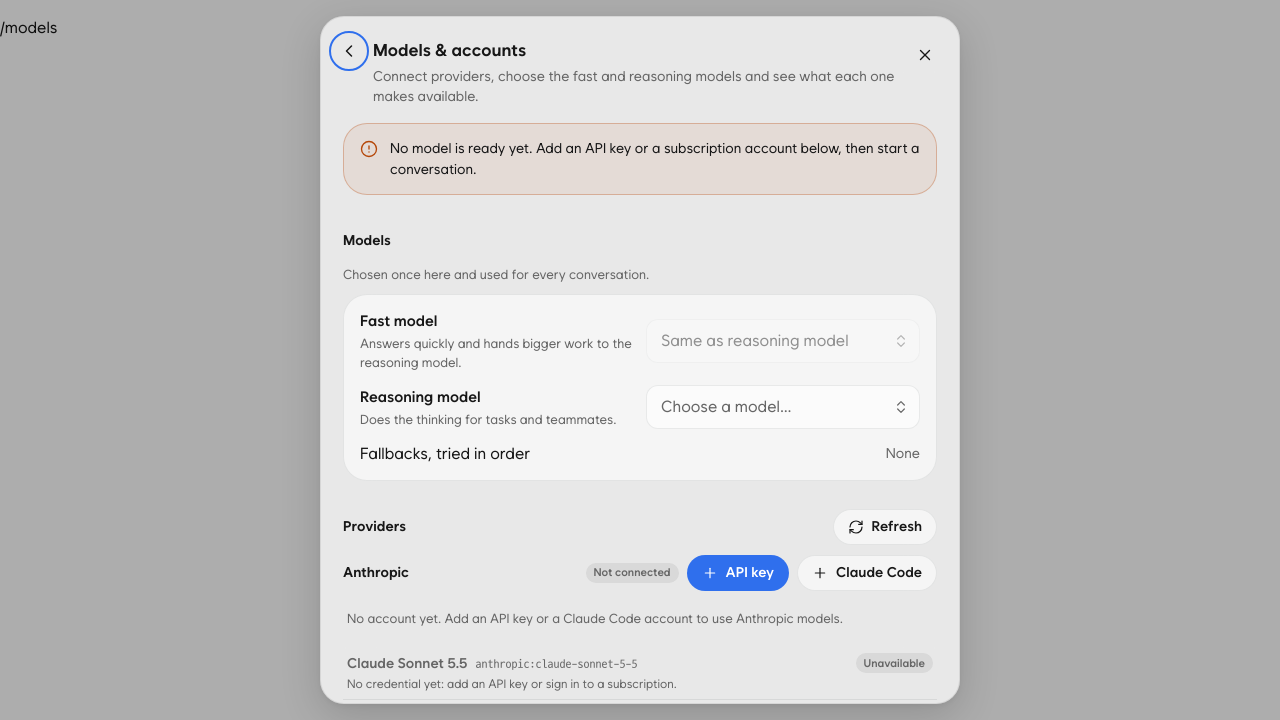
Scenario: Models & accounts dialog › deep-links to /models and returns to Settings with the back control
The image size is (1280, 720).
Expected: the element named "Provider Anthropic" is shown, [343,555,937,703]
Click the button named "Back to settings".
click(349, 51)  # box [333,35,365,67]
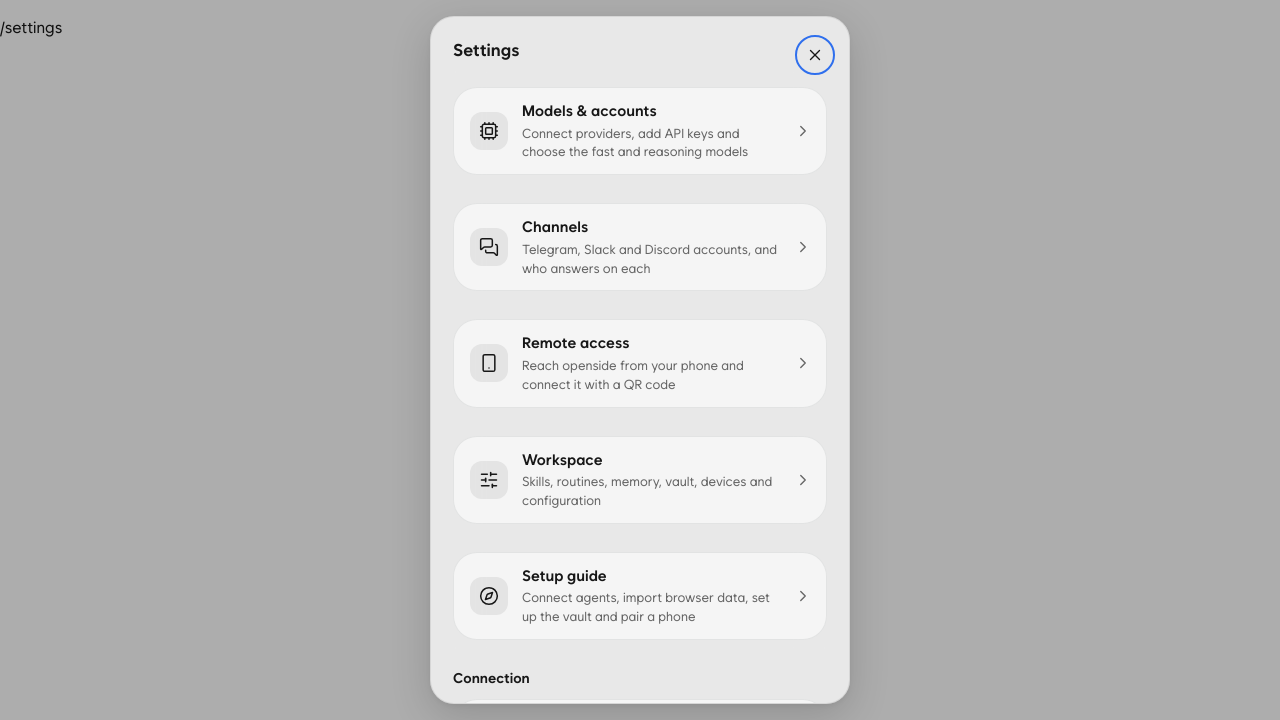
Now the text with test id "where" reads "/settings", box [0,18,62,37]
